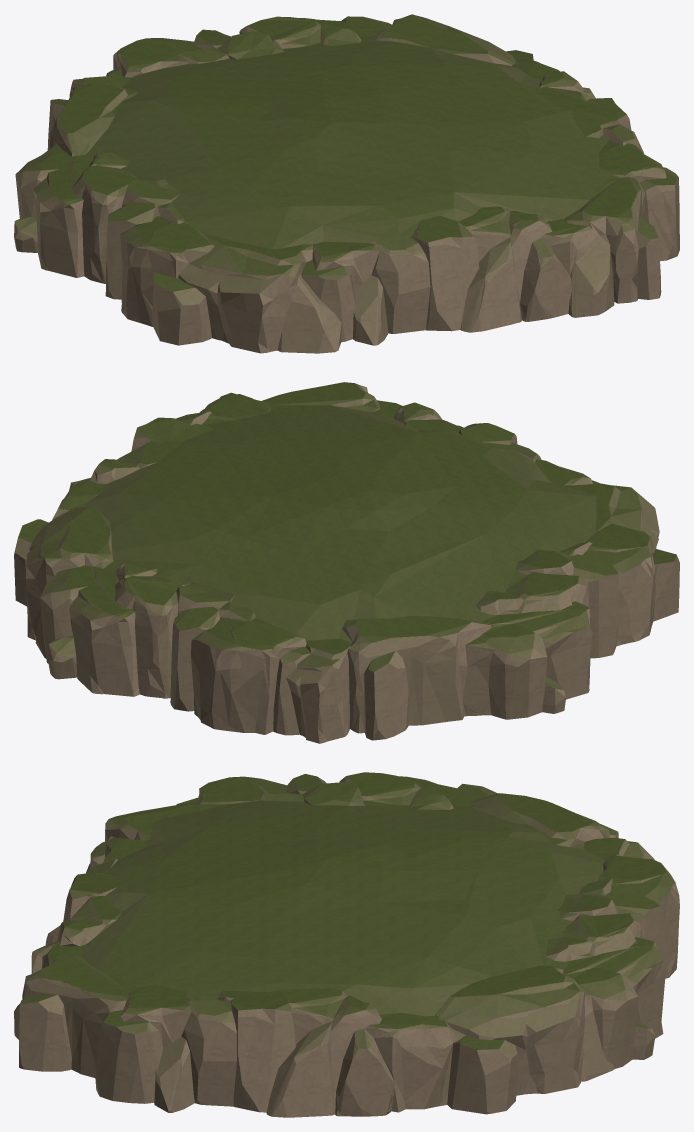
Rendered from SM_Env_Ground_Cliff_Large_01.glb.
The picture shows the model from 3 angles, top to bottom: view 1: azimuth 30°, elevation 25°; view 2: azimuth 150°, elevation 25°; view 3: azimuth 270°, elevation 25°; orthographic projection. The views are drawn at different scales.
Parts seen in each view (by area): view 1: SM_Env_Ground_Cliff_Large_01; view 2: SM_Env_Ground_Cliff_Large_01; view 3: SM_Env_Ground_Cliff_Large_01.
Part boxes in pixels (x1,y1,x2,y2): SM_Env_Ground_Cliff_Large_01: (14,14,679,353); SM_Env_Ground_Cliff_Large_01: (14,382,679,743); SM_Env_Ground_Cliff_Large_01: (14,772,679,1117).
Size of the model in its own units: 39.64 by 7.87 by 40.78.
Materials: 1 (1 with a texture image).
